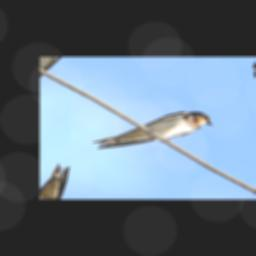Swallow: (89, 93, 221, 173)
